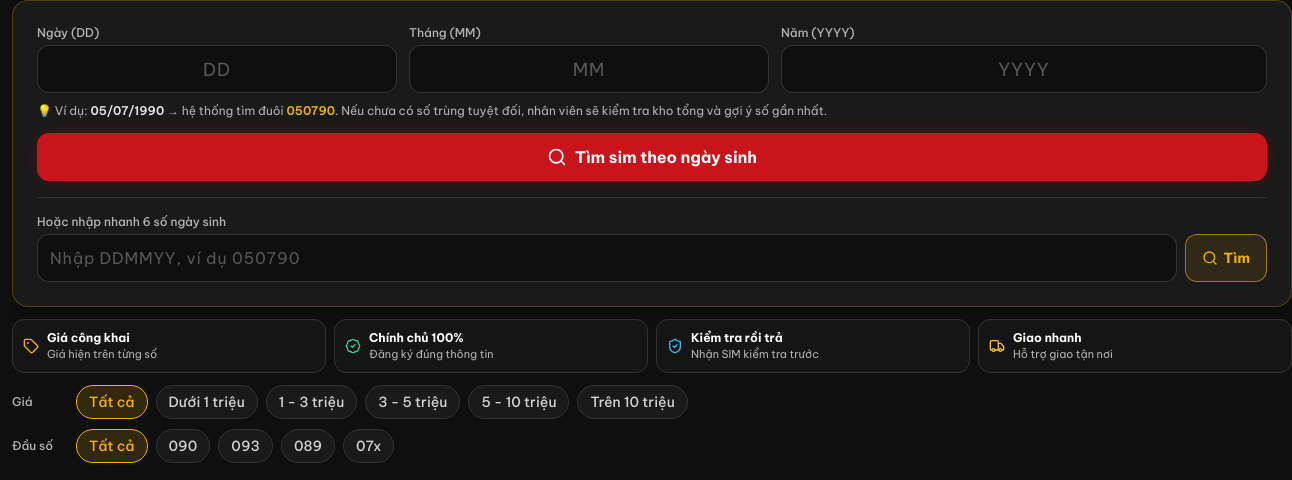
Test: SimNgaySinhFinder — landing /sim-ngay-thang-nam-sinh › gõ chồng lên số cũ trong ô nhanh → giữ 6 số vừa gõ, không nối chuỗi
Type "010805" into the field with placeholder "Nhập DDMMYY, ví dụ 050790" at (607,258), box [37,234,1177,282]
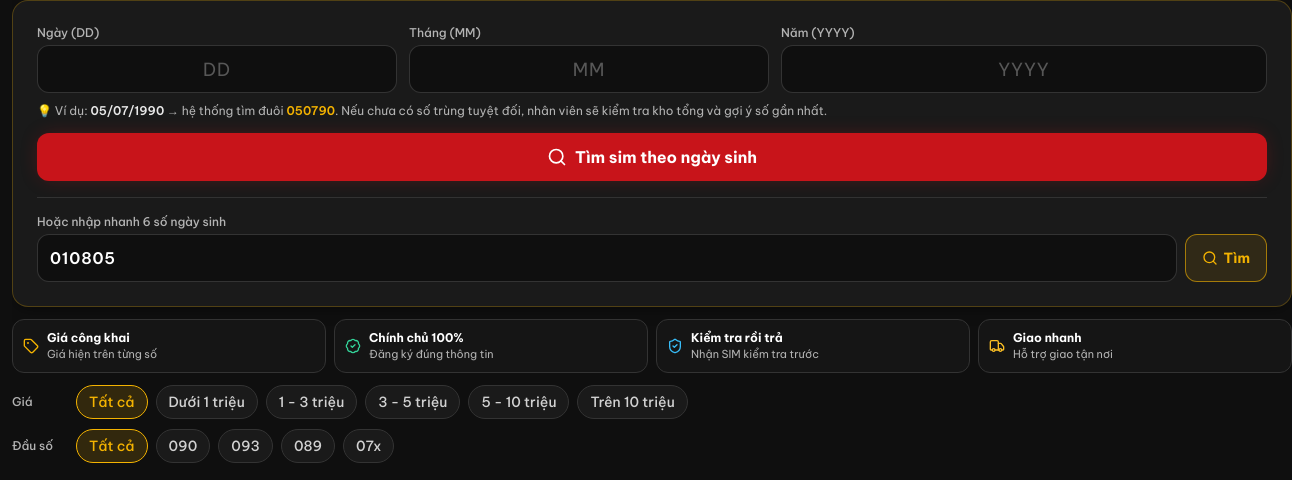
Replace the text in the field with placeholder "Nhập DDMMYY, ví dụ 050790" with "010805050790" at (607,258), box [37,234,1177,282]
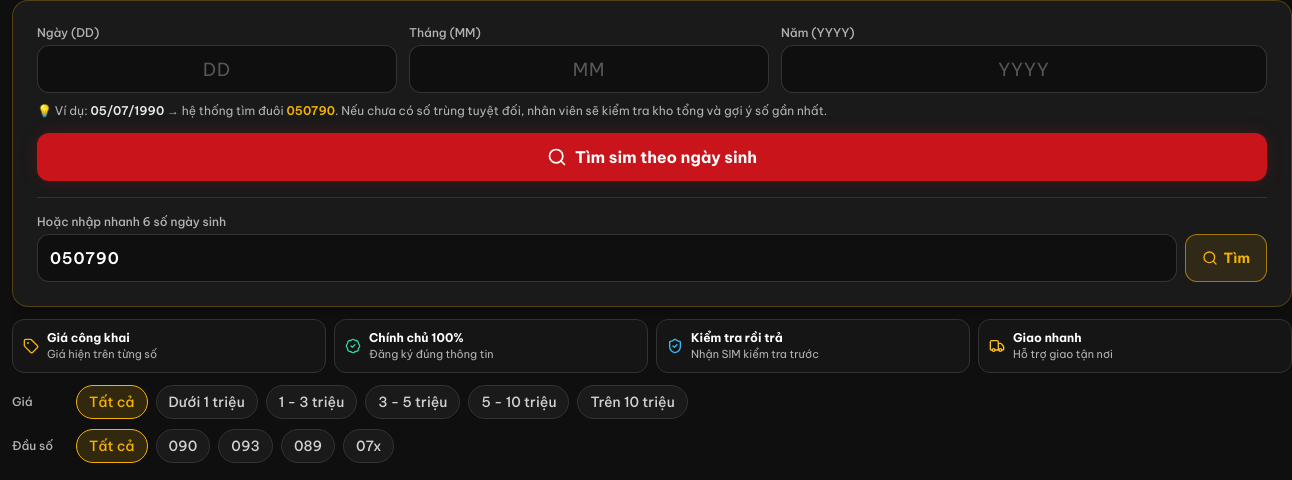
Expected: the field with placeholder "Nhập DDMMYY, ví dụ 050790" holds "050790", [37,234,1177,282]
